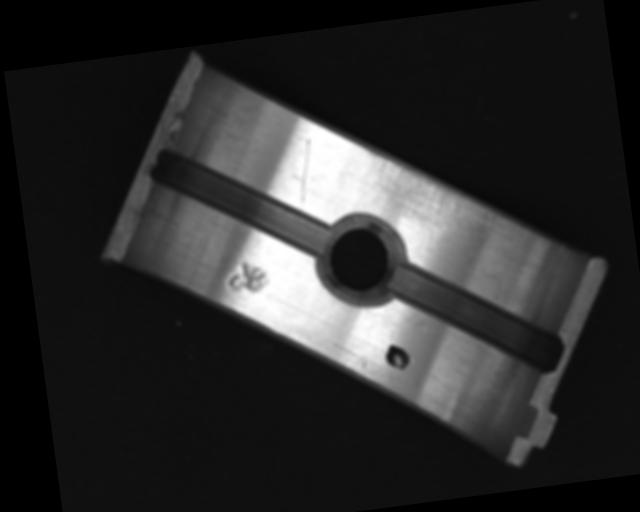blot: (383, 341, 412, 373)
bruise: (224, 255, 270, 296)
gap: (146, 129, 331, 272), (387, 247, 566, 391)
hole: (309, 210, 411, 312)
nick: (290, 139, 319, 211)
scratch: (359, 127, 514, 259)
